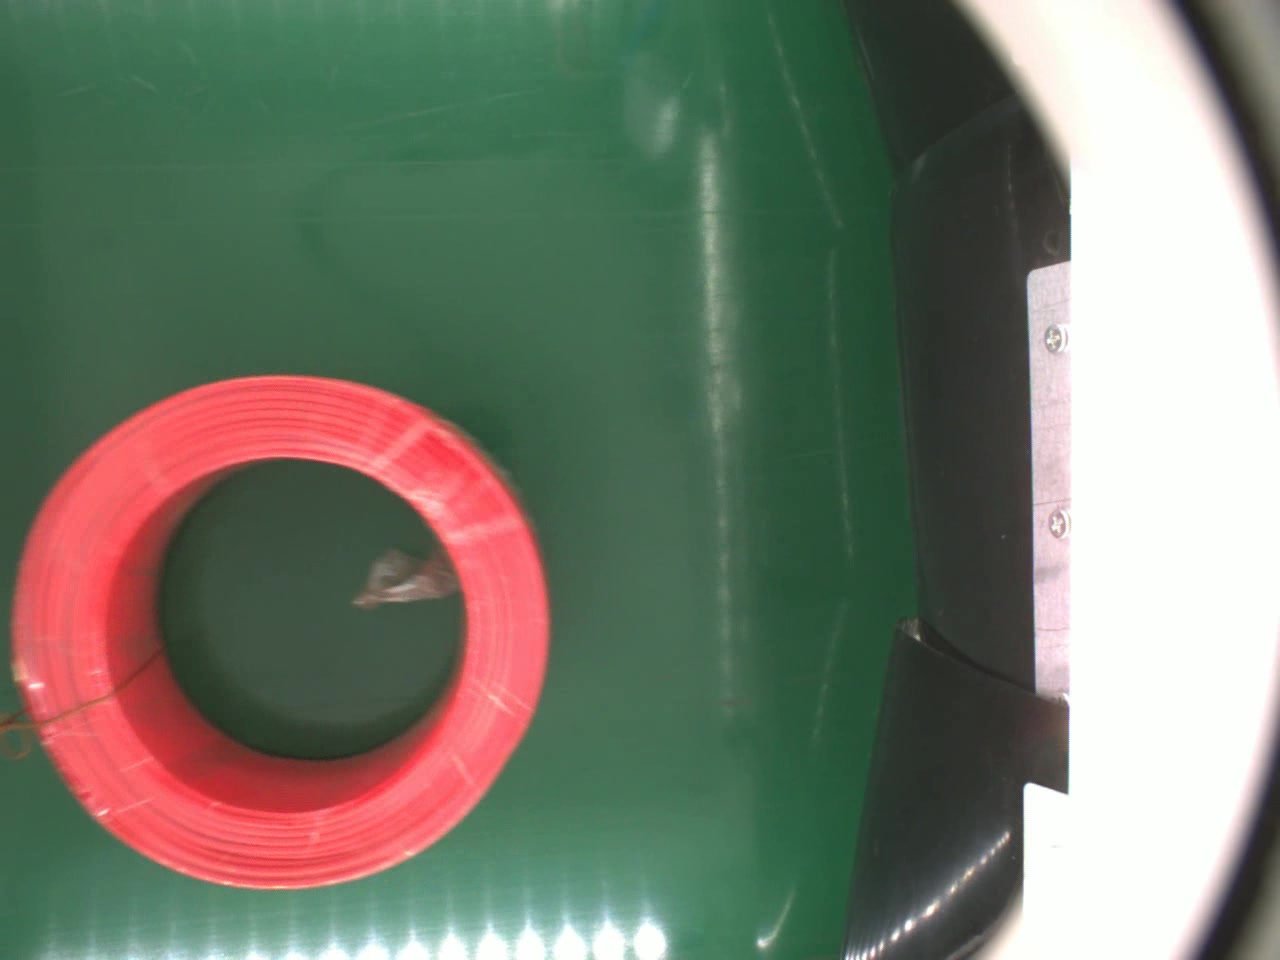red: (16, 370, 547, 888)
